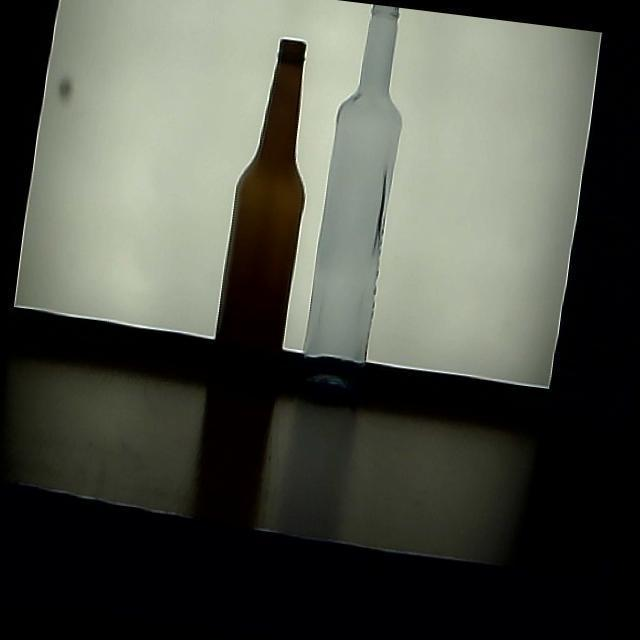Glass: (294, 4, 404, 412), (207, 36, 305, 412)
